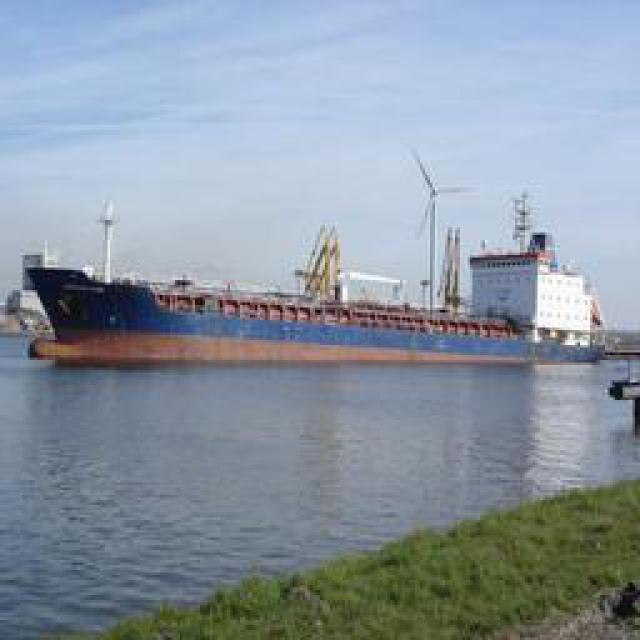Ship: (32, 241, 610, 366)
